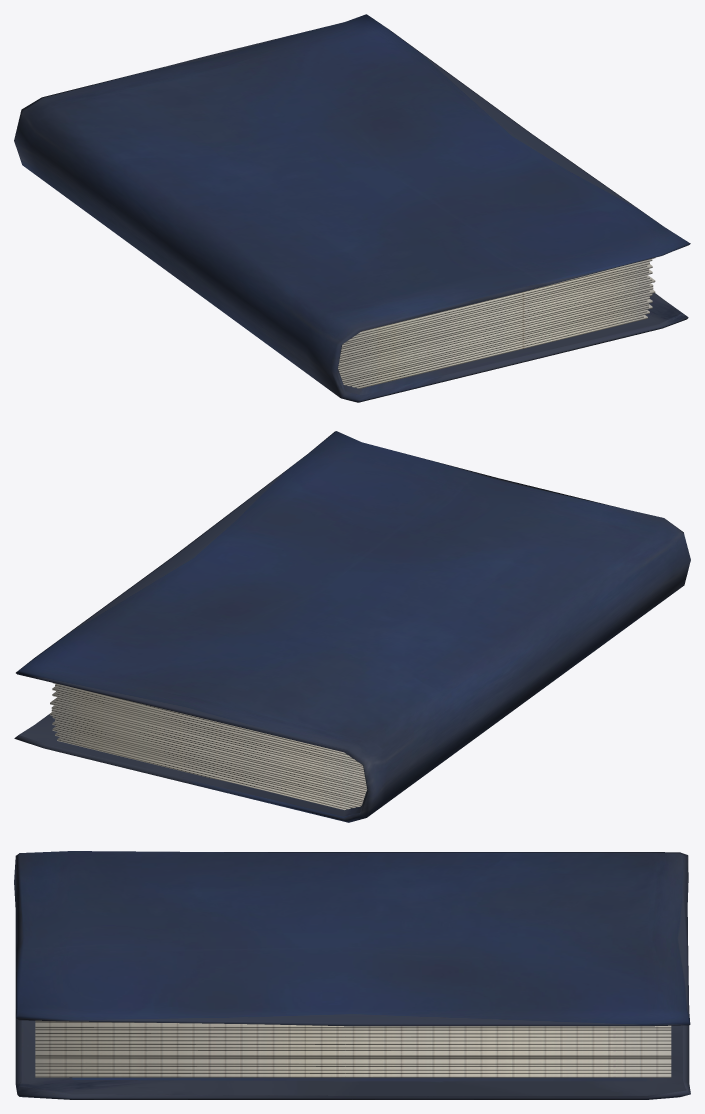
File: Novel_Book.obj
3 renders of one model, top to bottom at view 1: azimuth 30°, elevation 25°; view 2: azimuth 150°, elevation 25°; view 3: azimuth 270°, elevation 25°, orthographic. The views are drawn at different scales.
Parts seen in each view (by area): view 1: Book_Transform_(Cover)'_cover, paper; view 2: Book_Transform_(Cover)'_cover, paper; view 3: Book_Transform_(Cover)'_cover, paper.
Part boxes in pixels (<box>): Book_Transform_(Cover)'_cover: <box>14,14,690,402</box>; paper: <box>338,258,655,388</box>; Book_Transform_(Cover)'_cover: <box>14,431,690,822</box>; paper: <box>50,683,367,810</box>; Book_Transform_(Cover)'_cover: <box>14,851,690,1099</box>; paper: <box>35,1020,671,1077</box>.
Size of what is drawn, in the model's own units: 5.17 by 1.09 by 8.04.
